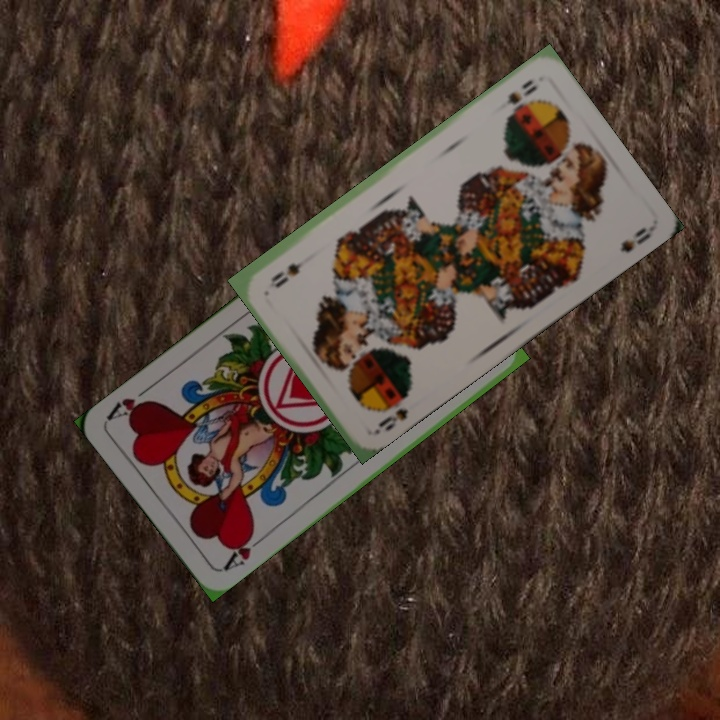HA: (218, 527, 269, 574)
SO: (370, 387, 412, 438), (503, 75, 540, 108)
